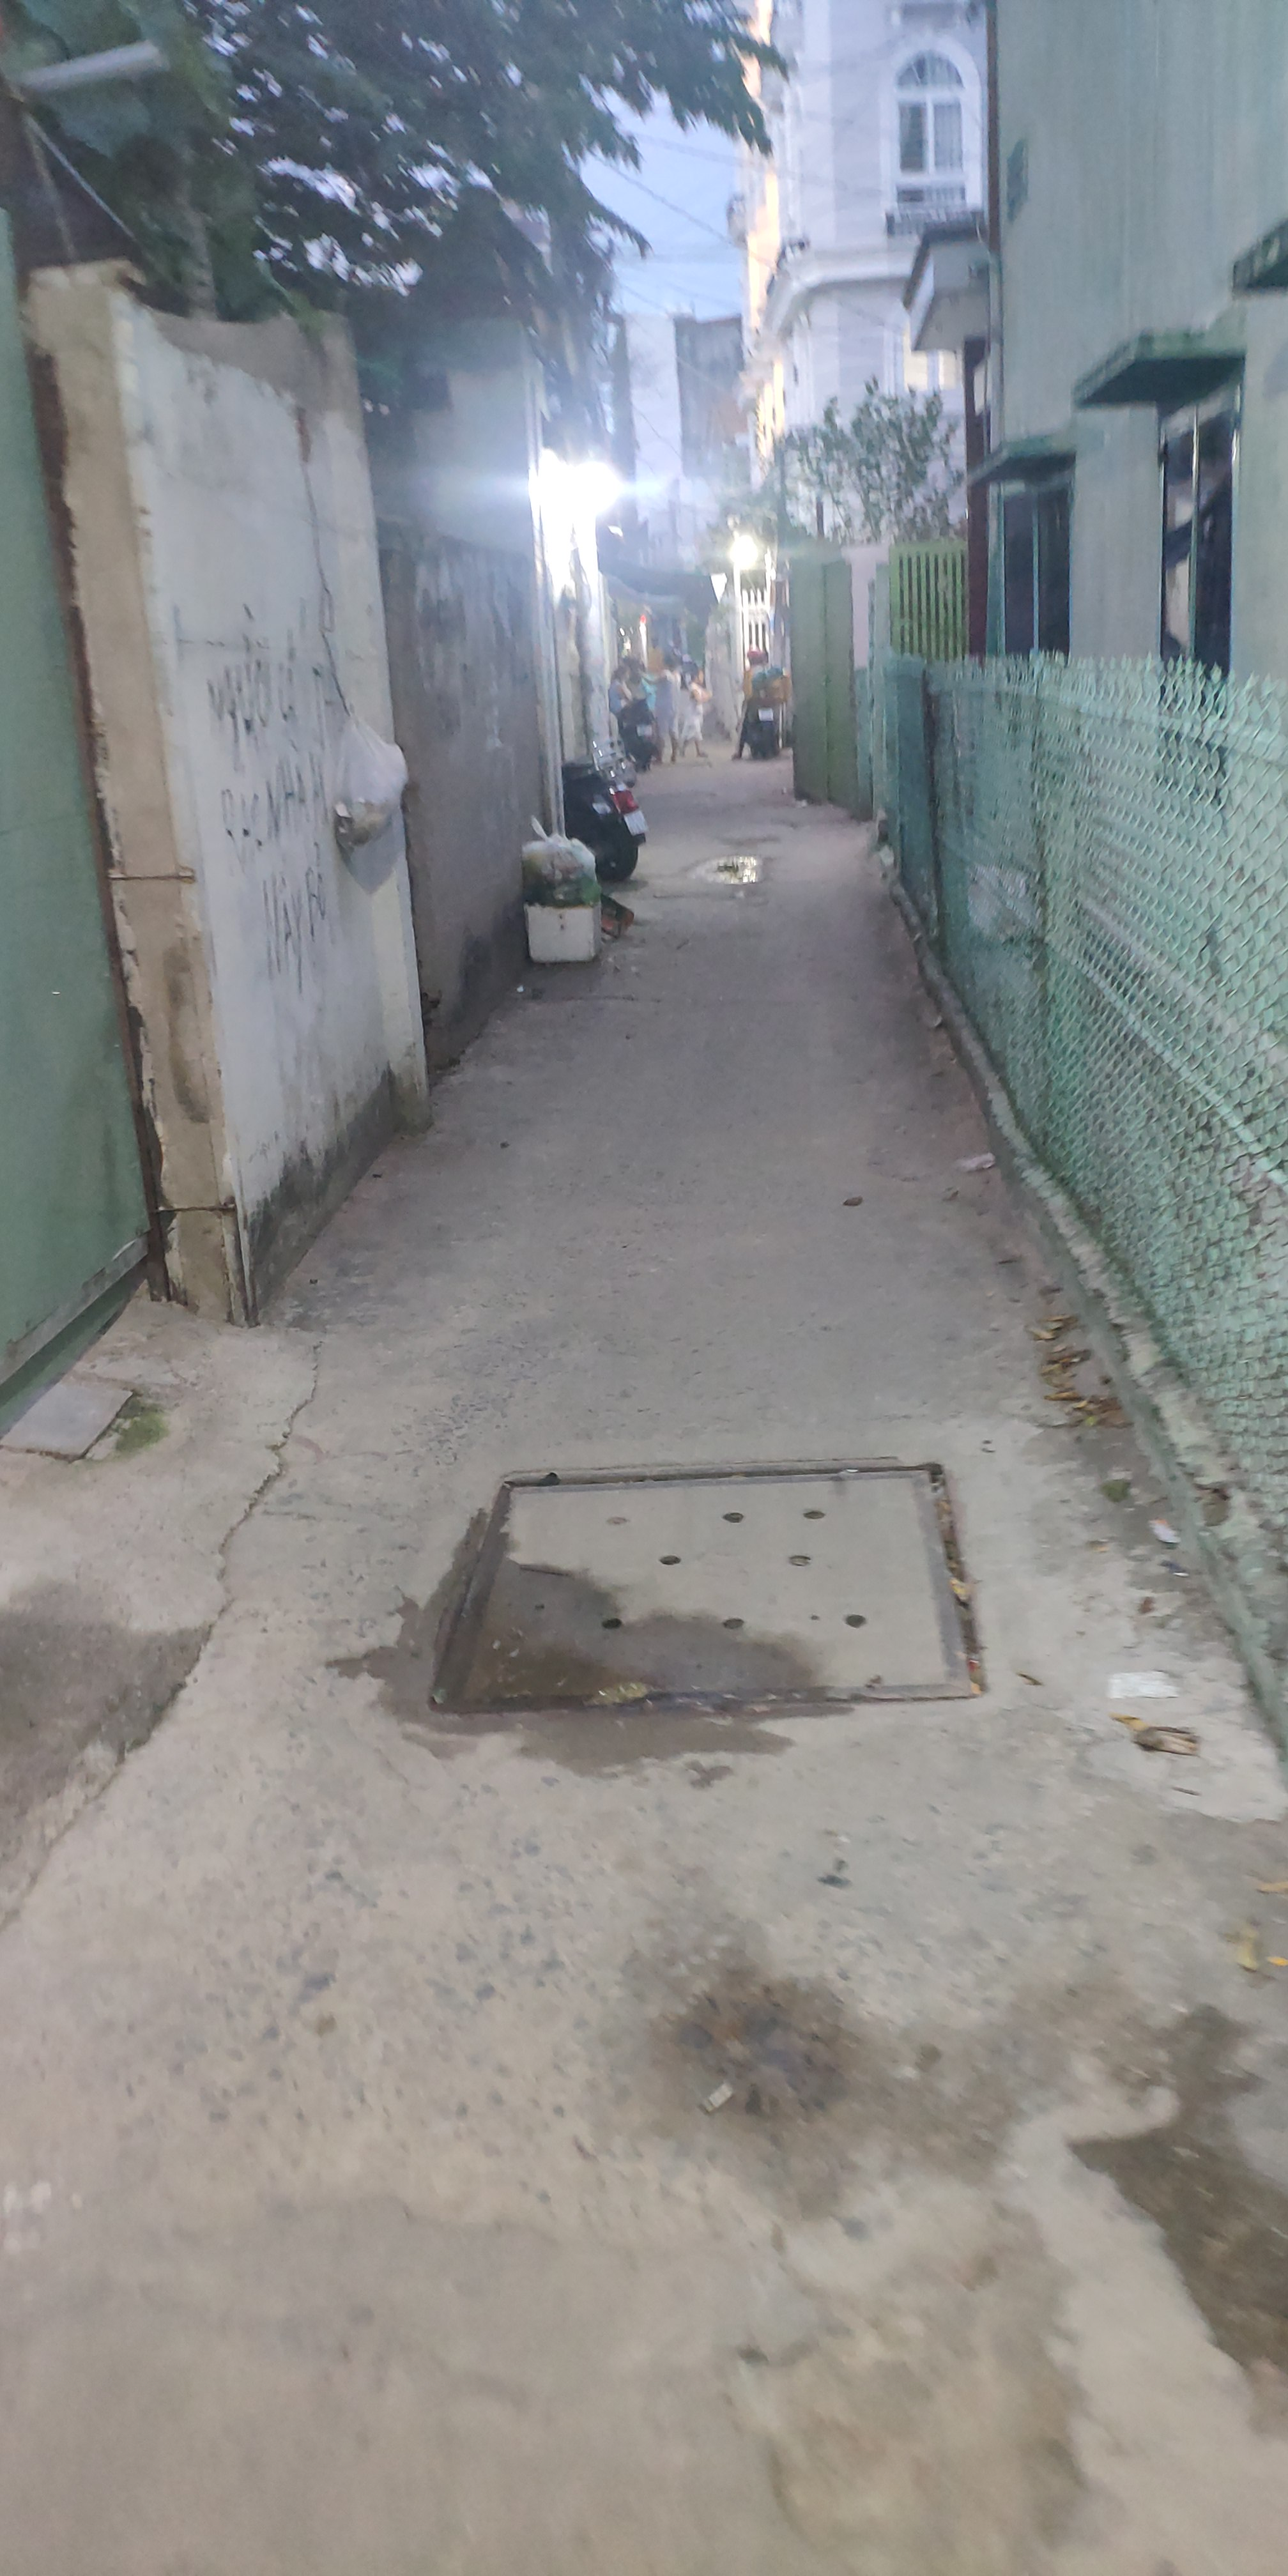hole: (772, 2131, 1091, 2576), (680, 848, 769, 885)
